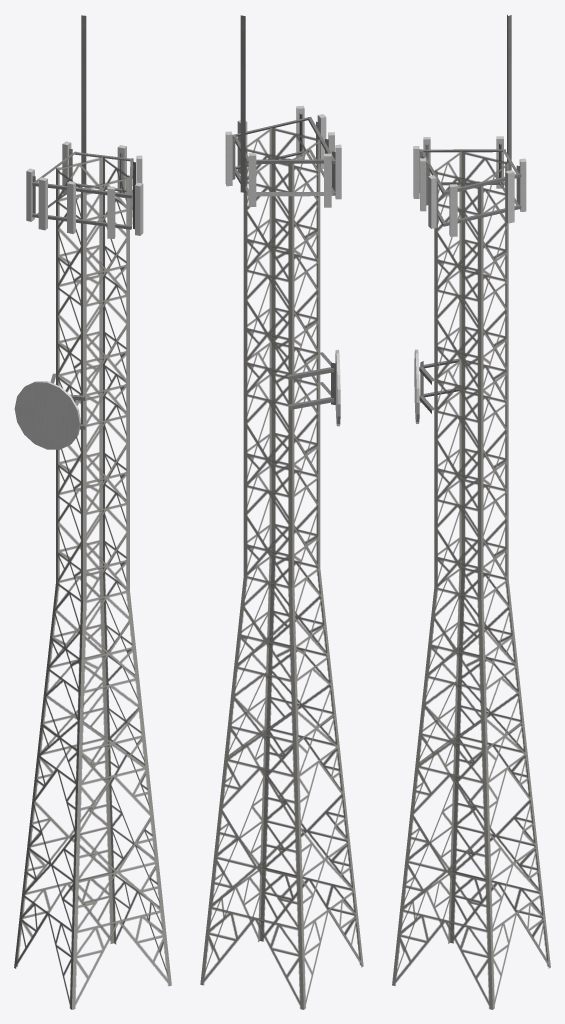
Rendered from tower-radio-60m-cbj_LOD01.gltf.
3 views of the same model, side by side, from view 1: azimuth 30°, elevation 25°; view 2: azimuth 150°, elevation 25°; view 3: azimuth 330°, elevation 25° (orthographic). The views are drawn at different scales.
Visible parts, largest first — view 1: post01; view 2: post01; view 3: post01.
Boxes of the visible parts, x1=… form: post01: x1=14, y1=15, x2=171, y2=1009; post01: x1=200, y1=15, x2=363, y2=1009; post01: x1=392, y1=14, x2=550, y2=1009.
Size of the model in its own units: 9.18 by 70.21 by 8.63.
